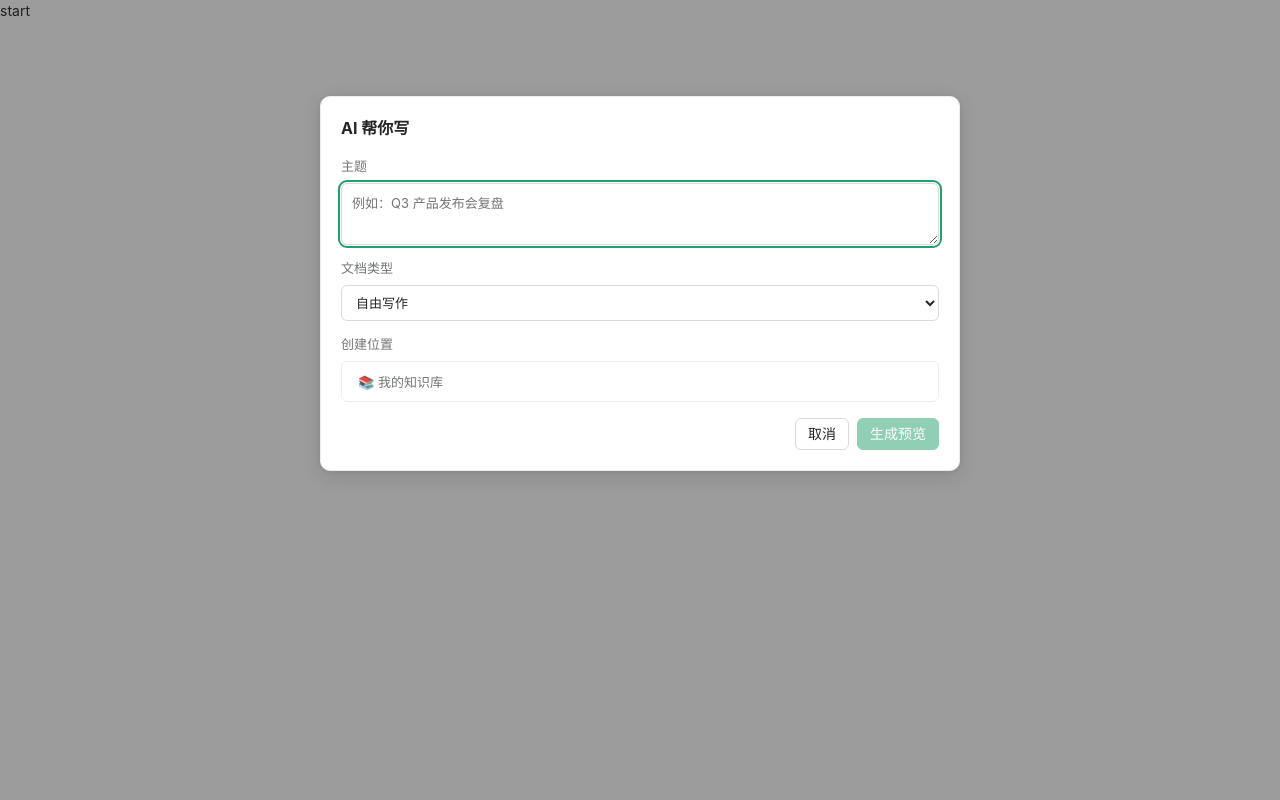
Test: AIDraftModal › 生成中卸载后迟到的响应被丢弃（不 setState、无 unhandled error）
The width and height of the screenshot is (1280, 800).
Type "迟到响应" into the text box named "文档主题". click: (640, 214)
box: [341,183,939,245]
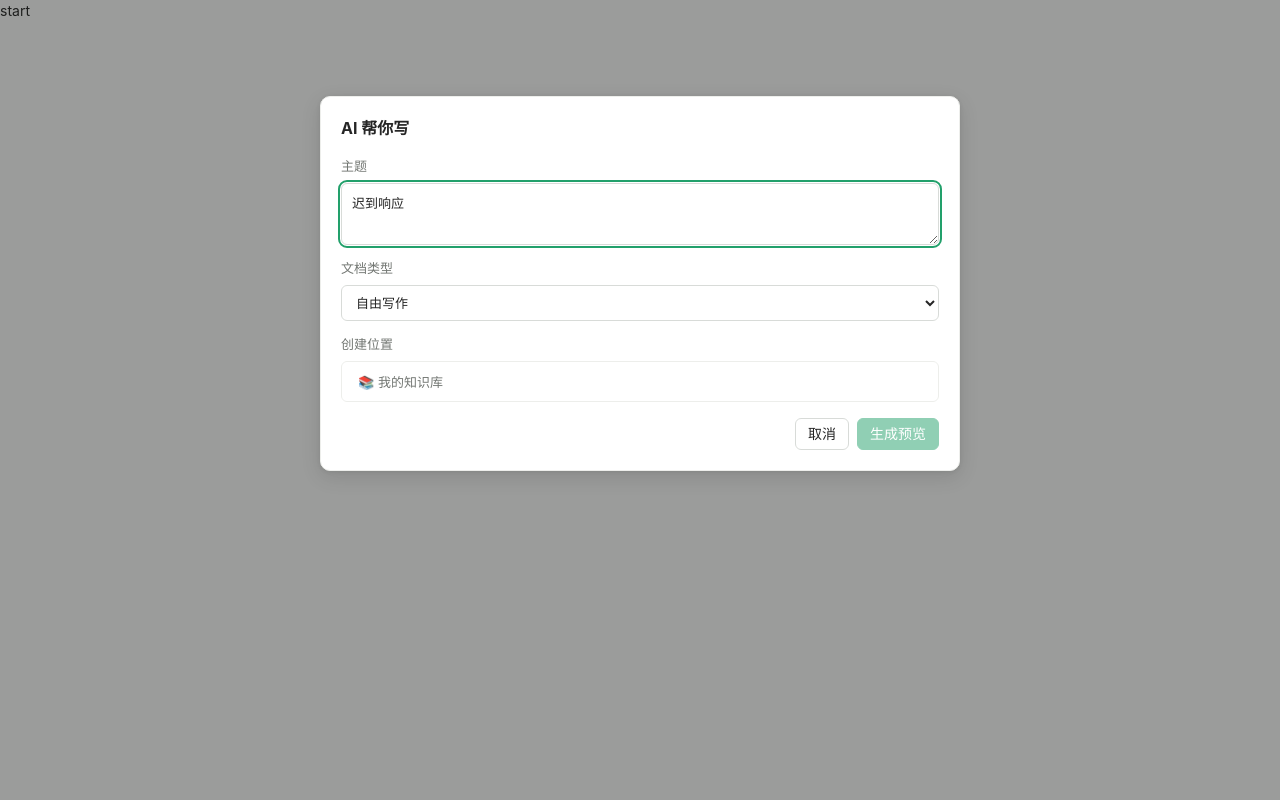
Click the menu item "📚 我的知识库". click: (400, 382)
box: [346,366,934,397]
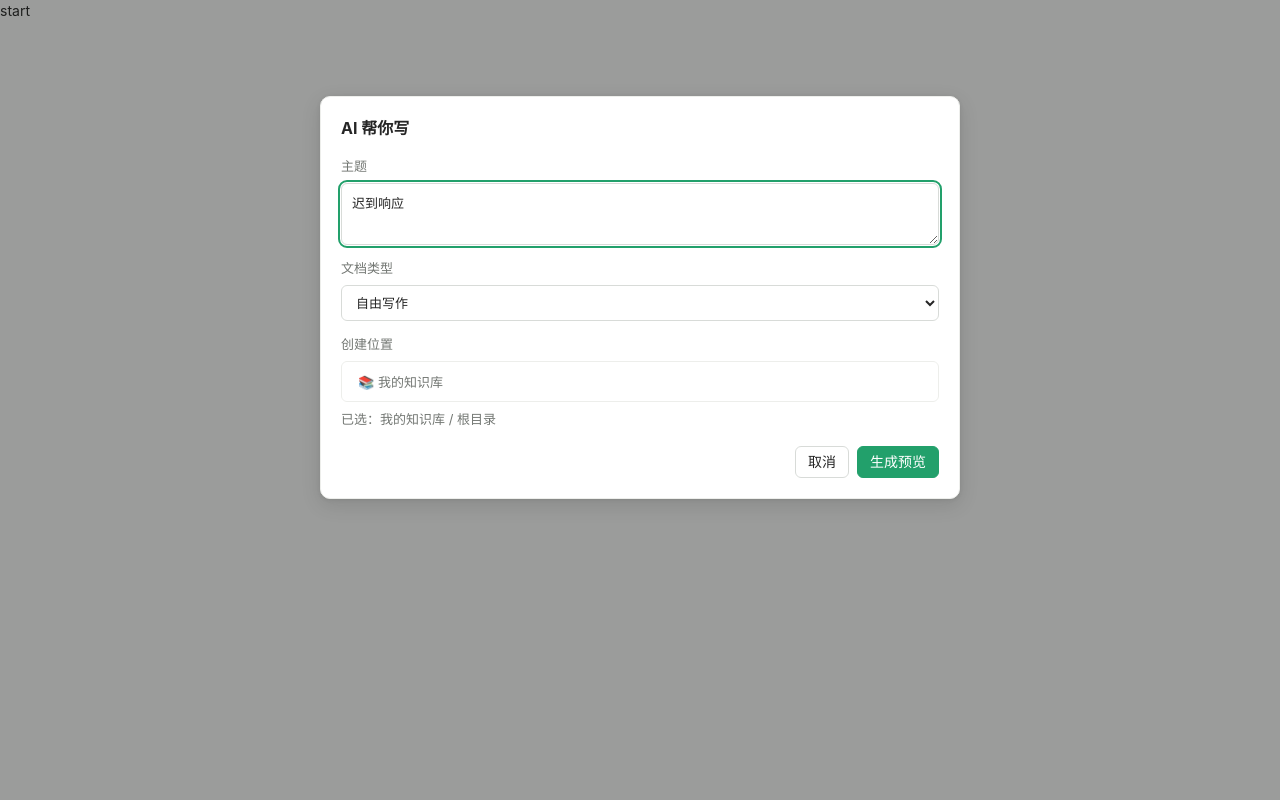
Click the button "生成预览". click: (898, 462)
box: [857,446,939,478]
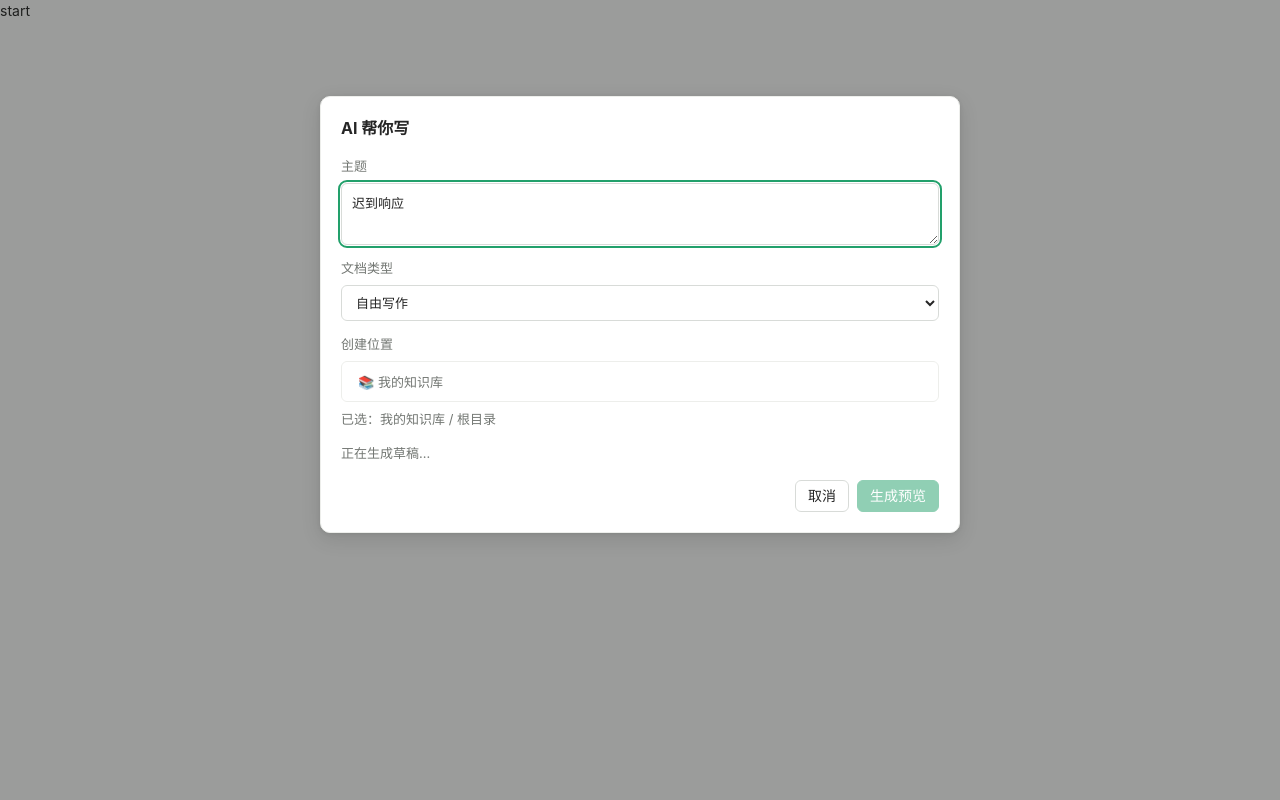
Now the text "正在生成草稿…" is shown, box [341,445,430,461]
